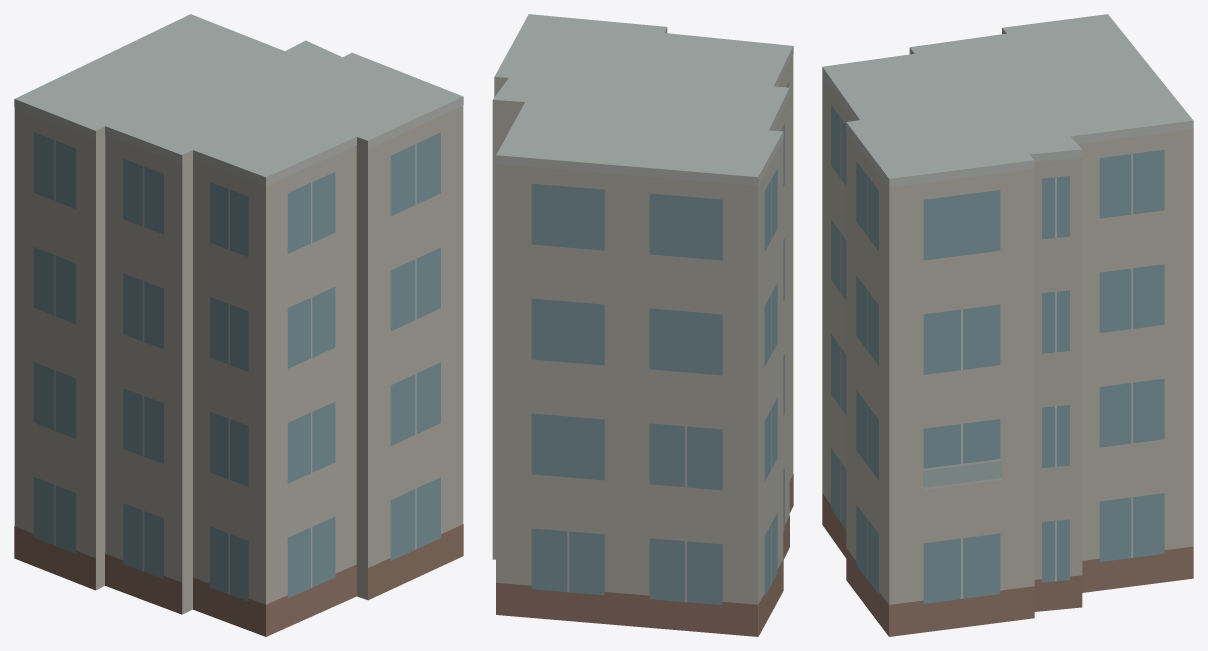
File: survey-upis-32475435.glb
The picture shows the model from 3 angles, left to right: view 1: azimuth 30°, elevation 25°; view 2: azimuth 150°, elevation 25°; view 3: azimuth 270°, elevation 25°; orthographic projection.
Parts seen in each view (by area): view 1: survey-upis-32475435.tmp; view 2: survey-upis-32475435.tmp; view 3: survey-upis-32475435.tmp.
Boxes of the visible parts, x1,y1,x2,y2 form: survey-upis-32475435.tmp: (14,14,463,636); survey-upis-32475435.tmp: (492,14,793,636); survey-upis-32475435.tmp: (822,14,1193,636).
Bounding box in the file's own units: 10.15 × 13.13 × 9.66.
